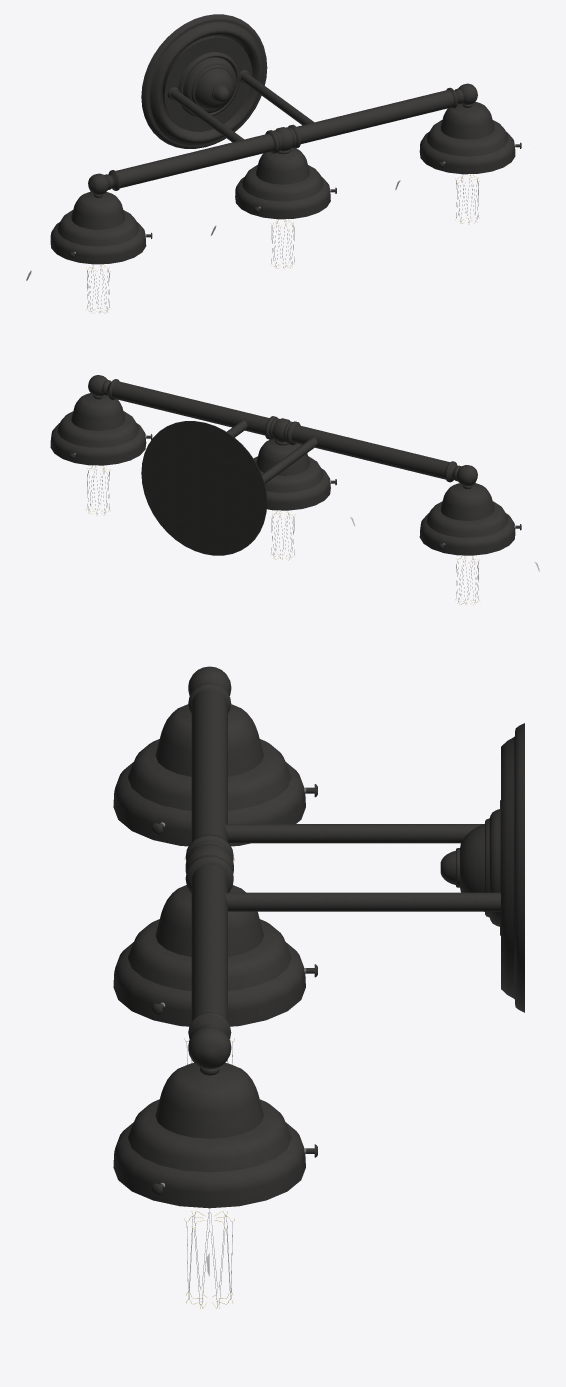
File: lamp_B07B4W24JT.glb
3 renders of one model, top to bottom at view 1: azimuth 30°, elevation 25°; view 2: azimuth 150°, elevation 25°; view 3: azimuth 270°, elevation 25°, orthographic. The views are drawn at different scales.
Visible parts, largest first — view 1: "$Mesh_B07B4W24JTShape"; view 2: "$Mesh_B07B4W24JTShape"; view 3: "$Mesh_B07B4W24JTShape".
Boxes of the visible parts, box(x1,y1,x2,y2) form: "$Mesh_B07B4W24JTShape": box(26, 14, 521, 313); "$Mesh_B07B4W24JTShape": box(50, 375, 539, 604); "$Mesh_B07B4W24JTShape": box(113, 666, 524, 1308).
Bounding box in the file's own units: 0.5891 × 0.2423 × 0.2395.
Materials: 1 (1 with a texture image).
